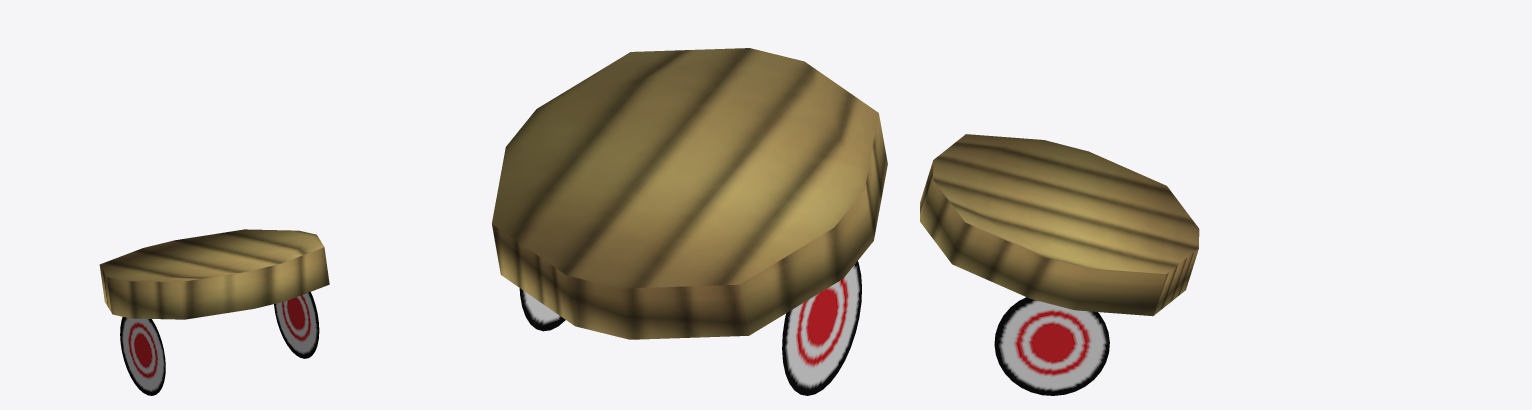
The model's file is helmet_nobre_3.dae.
The picture shows the model from 3 angles, left to right: view 1: azimuth 30°, elevation 25°; view 2: azimuth 150°, elevation 25°; view 3: azimuth 270°, elevation 25°; orthographic projection. The views are drawn at different scales.
Parts seen in each view (by area): view 1: helmet_nobre_3; view 2: helmet_nobre_3; view 3: helmet_nobre_3.
Part boxes in pixels (x1,y1,x2,y2): helmet_nobre_3: (99,229,329,395); helmet_nobre_3: (492,48,887,395); helmet_nobre_3: (920,134,1199,395).
Bounding box in the file's own units: 0.5916 × 1.29 × 0.7833.
